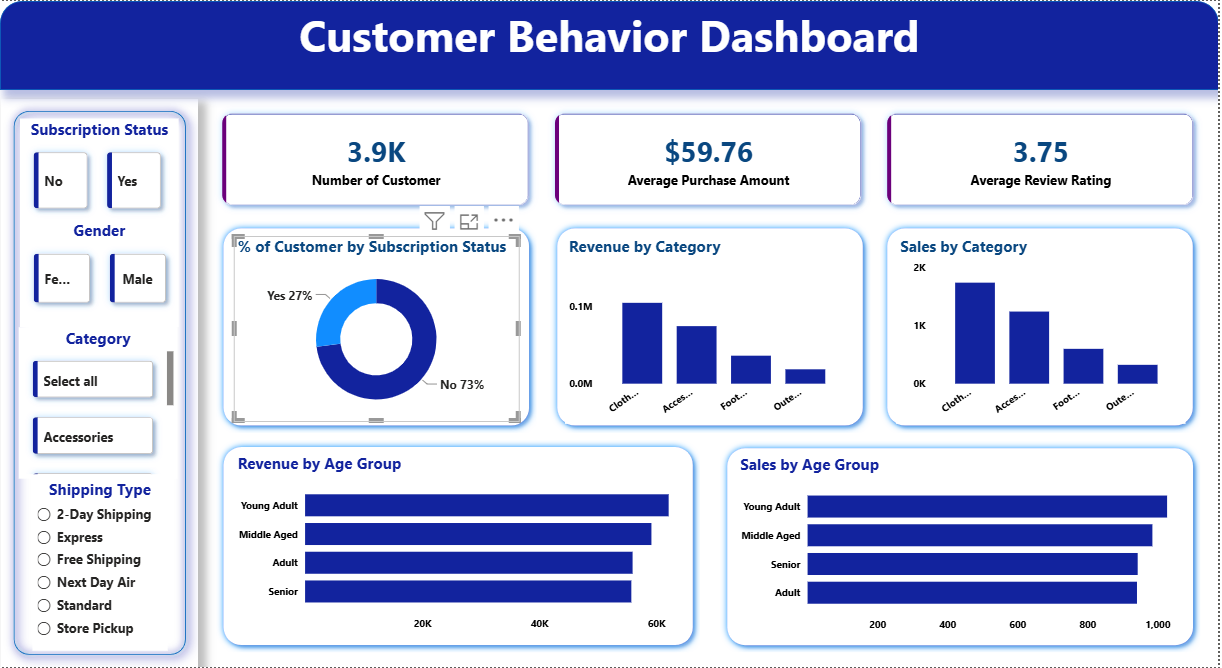

The page's visual inventory and layout, read from the dashboard file:
{"tool":"powerbi","page":{"name":"Page 1","canvas":[1500,820],"ordinal":0},"visuals":[{"type":"cardVisual","fields":{"Data":["public customer.Number of Customer","public customer.Average Purchase Amount","public customer.Average Review Rating"]},"box":[244,109.5,1256,171.4],"z":0},{"type":"shape","box":[0,0,1500,109.5],"z":1000},{"type":"textbox","box":[0,0,1500,120.2],"z":2000},{"type":"shape","box":[266.7,271.4,394,260.7],"z":3000},{"type":"shape","box":[676.2,271.4,394,260.7],"z":4000},{"type":"shape","box":[1083.3,271.4,394,260.7],"z":5000},{"type":"donutChart","title":"% of Customer by Subscription Status","fields":{"Category":["public customer.subscription_status"],"Y":["CountNonNull(public customer.customer_id)"]},"box":[288.1,289.3,351.2,229.8],"z":6000},{"type":"clusteredColumnChart","title":"Revenue by Category","fields":{"Y":["Sum(public customer.purchase_amount)"],"Category":["public customer.category"]},"box":[695.2,289.3,354.8,231],"z":7000},{"type":"clusteredColumnChart","title":"Sales by Category","fields":{"Y":["CountNonNull(public customer.customer_id)"],"Category":["public customer.category"]},"box":[1102.4,289.3,356,231],"z":8000},{"type":"shape","box":[266.2,539.7,595.6,261.8],"z":8001},{"type":"shape","box":[886.8,541.2,591.2,260.3],"z":8002},{"type":"shape","box":[1.5,120.6,242.6,700],"z":8004},{"type":"advancedSlicerVisual","title":"Subscription Status","fields":{"Values":["public customer.subscription_status"]},"box":[25,144.1,195.6,127.9],"z":8005},{"type":"advancedSlicerVisual","title":"Gender","fields":{"Values":["public customer.gender"]},"box":[25,269.1,195.6,132.4],"z":8006},{"type":"advancedSlicerVisual","title":"Category","fields":{"Values":["public customer.category"]},"box":[23.5,401.5,195.6,186.8],"z":8007},{"type":"listSlicer","title":"Shipping Type","fields":{"Values":["public customer.shipping_type"]},"box":[39.7,588.2,166.2,211.8],"z":8008},{"type":"clusteredBarChart","title":"Revenue by Age Group","fields":{"Y":["Sum(public customer.purchase_amount)"],"Category":["public customer.age_group"]},"box":[288.2,555.9,551.5,229.4],"z":8009},{"type":"clusteredBarChart","title":"Sales by Age Group","fields":{"Y":["CountNonNull(public customer.customer_id)"],"Category":["public customer.age_group"]},"box":[905.9,557.4,551.5,229.4],"z":8010}]}

Visuals, with their boxes in screenshot pixels (x1, y1, x2, y2), scaled from the page's 1500x820 canvas onto the 1222x668 screenshot:
cardVisual - public customer.Number of Customer x public customer.Average Purchase Amount: <bbox>199, 89, 1221, 229</bbox>
shape: <bbox>0, 0, 1221, 89</bbox>
textbox: <bbox>0, 0, 1221, 98</bbox>
shape: <bbox>217, 221, 538, 433</bbox>
shape: <bbox>551, 221, 872, 433</bbox>
shape: <bbox>883, 221, 1204, 433</bbox>
"% of Customer by Subscription Status" donutChart: <bbox>235, 236, 521, 423</bbox>
"Revenue by Category" clusteredColumnChart: <bbox>566, 236, 855, 424</bbox>
"Sales by Category" clusteredColumnChart: <bbox>898, 236, 1188, 424</bbox>
shape: <bbox>217, 440, 702, 653</bbox>
shape: <bbox>722, 441, 1204, 653</bbox>
shape: <bbox>1, 98, 199, 667</bbox>
"Subscription Status" advancedSlicerVisual: <bbox>20, 117, 180, 222</bbox>
"Gender" advancedSlicerVisual: <bbox>20, 219, 180, 327</bbox>
"Category" advancedSlicerVisual: <bbox>19, 327, 178, 479</bbox>
"Shipping Type" listSlicer: <bbox>32, 479, 168, 652</bbox>
"Revenue by Age Group" clusteredBarChart: <bbox>235, 453, 684, 640</bbox>
"Sales by Age Group" clusteredBarChart: <bbox>738, 454, 1187, 641</bbox>
